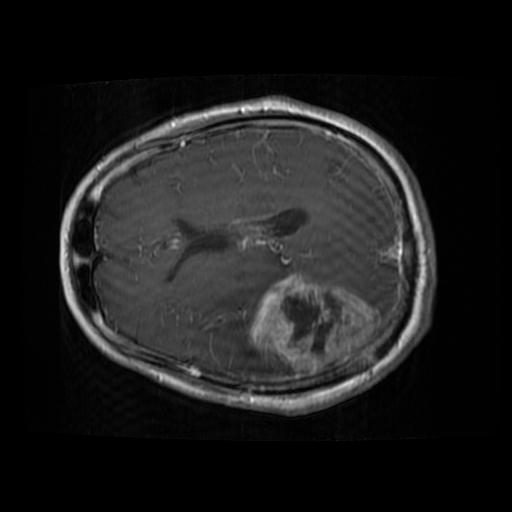glioma: (243, 272, 378, 376)
